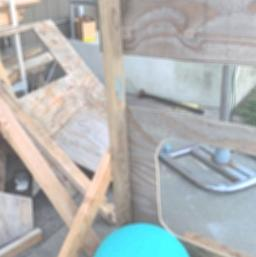algae: (89, 216, 196, 257)
